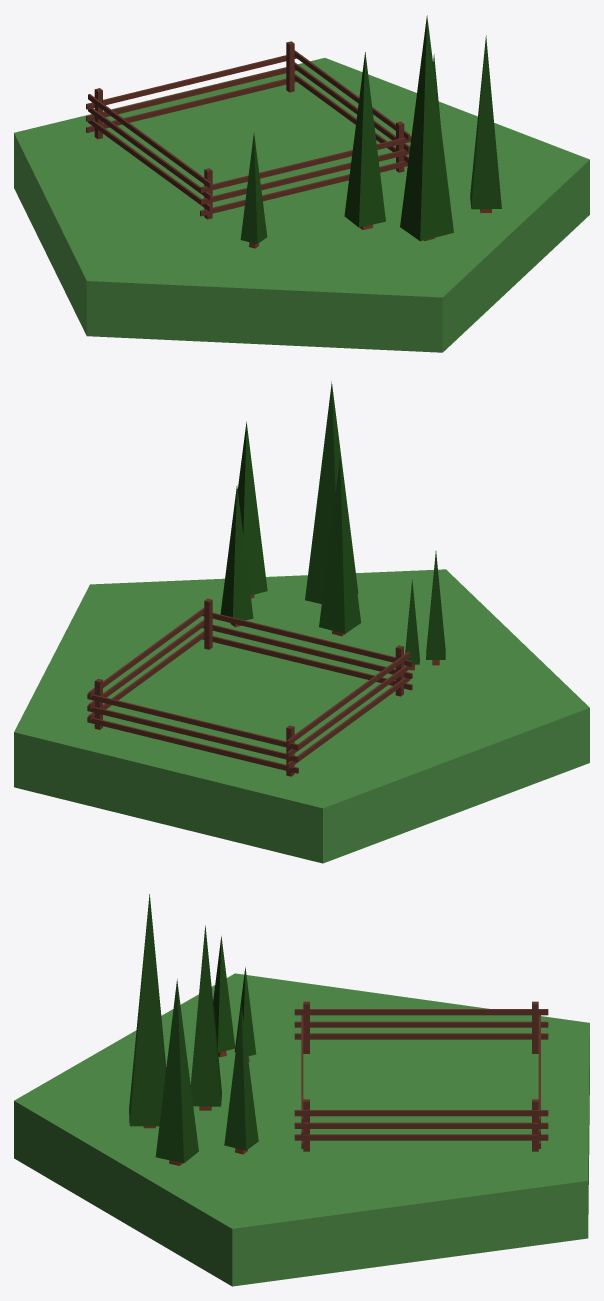
Rendered from Planet_FenceWhole_Pentagon (1).fbx.
3 views of the same model, one above another, from view 1: azimuth 30°, elevation 25°; view 2: azimuth 150°, elevation 25°; view 3: azimuth 270°, elevation 25° (orthographic). The views are drawn at different scales.
Visible parts, largest first — view 1: polySurface10, pCube44, pCube40, pCube41, pCube34, pCube182, pCube181, pCube180, pCube191, pCube189, pCube190, pCube185 (+6 smaller); view 2: polySurface10, pCube40, pCube44, pCube41, pCube37, pCube180, pCube182, pCube181, pCube191, pCube189, pCube34, pCube190 (+7 smaller); view 3: polySurface10, pCube44, pCube41, pCube40, pCube37, pCube186, pCube188, pCube187, pCube185, pCube184, pCube183, pCube34 (+1 smaller).
Part boxes in pixels (x1,y1,x2,y2): polySurface10: [14, 58, 589, 352]; pCube44: [400, 15, 453, 241]; pCube40: [344, 52, 385, 227]; pCube41: [470, 35, 501, 209]; pCube34: [240, 133, 267, 244]; pCube182: [86, 55, 296, 109]; pCube181: [86, 67, 296, 121]; pCube180: [86, 78, 296, 132]; pCube191: [200, 136, 411, 192]; pCube189: [200, 149, 409, 204]; pCube190: [200, 161, 407, 216]; pCube185: [88, 94, 211, 188]; polySurface10: [14, 569, 589, 863]; pCube40: [319, 457, 361, 633]; pCube44: [305, 381, 358, 603]; pCube41: [237, 421, 267, 595]; pCube37: [220, 485, 253, 620]; pCube180: [87, 716, 298, 773]; pCube182: [87, 693, 298, 750]; pCube181: [87, 705, 298, 762]; pCube191: [202, 612, 412, 666]; pCube189: [202, 624, 412, 678]; pCube34: [426, 551, 445, 659]; pCube190: [202, 636, 412, 690]; polySurface10: [14, 973, 589, 1286]; pCube44: [129, 894, 166, 1126]; pCube41: [155, 979, 198, 1163]; pCube40: [190, 925, 221, 1106]; pCube37: [224, 1006, 258, 1150]; pCube186: [294, 1110, 548, 1116]; pCube188: [294, 1122, 548, 1128]; pCube187: [294, 1134, 548, 1140]; pCube185: [294, 1009, 548, 1015]; pCube184: [294, 1033, 548, 1039]; pCube183: [294, 1021, 548, 1027]; pCube34: [213, 936, 235, 1052].
Bounding box in the file's own units: 5.08 × 2.7 × 4.84.
